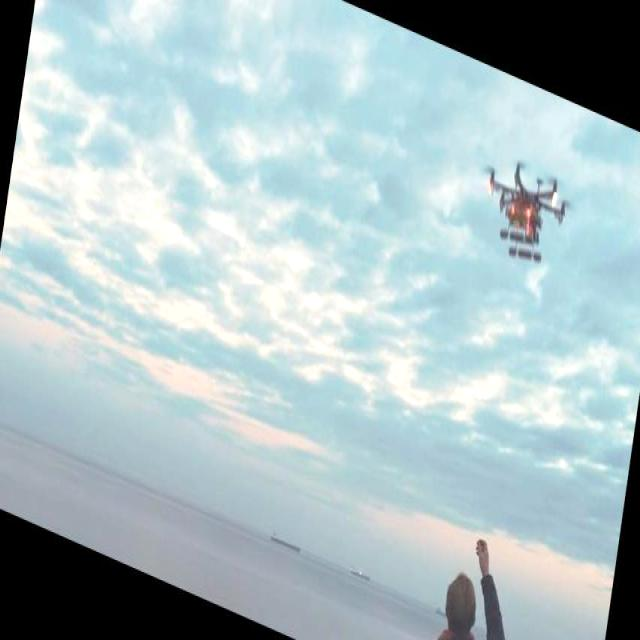drone: (474, 141, 576, 278)
